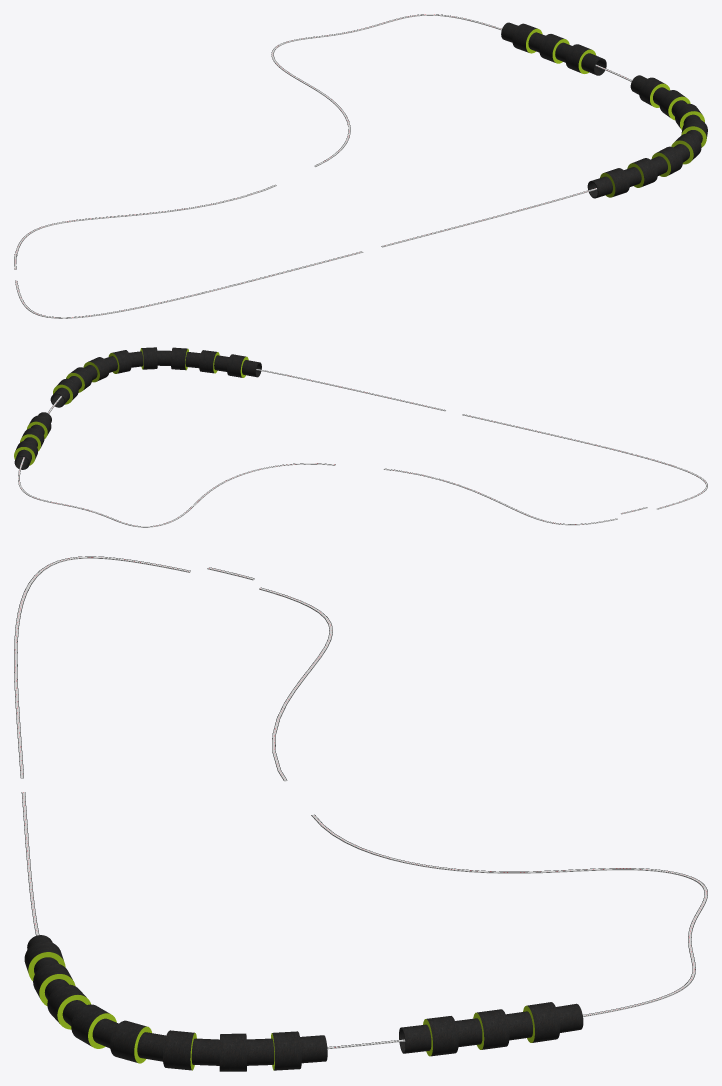
File: racetrackFinal.fbx
3 views of the same model, one above another, from view 1: azimuth 30°, elevation 25°; view 2: azimuth 150°, elevation 25°; view 3: azimuth 270°, elevation 25° (orthographic). The views are drawn at different scales.
Parts seen in each view (by area): view 1: Cylinder, Track; view 2: Cylinder, Track; view 3: Cylinder, Track.
Part boxes in pixels (bbox=[...]): Cylinder: bbox=[501, 22, 707, 198]; Track: bbox=[14, 14, 632, 318]; Cylinder: bbox=[14, 347, 261, 469]; Track: bbox=[18, 369, 707, 527]; Cylinder: bbox=[24, 935, 583, 1071]; Track: bbox=[14, 556, 707, 1049].
Bounding box in the file's own units: 71708 × 2276 × 41728.
5 materials, 1 textured.
